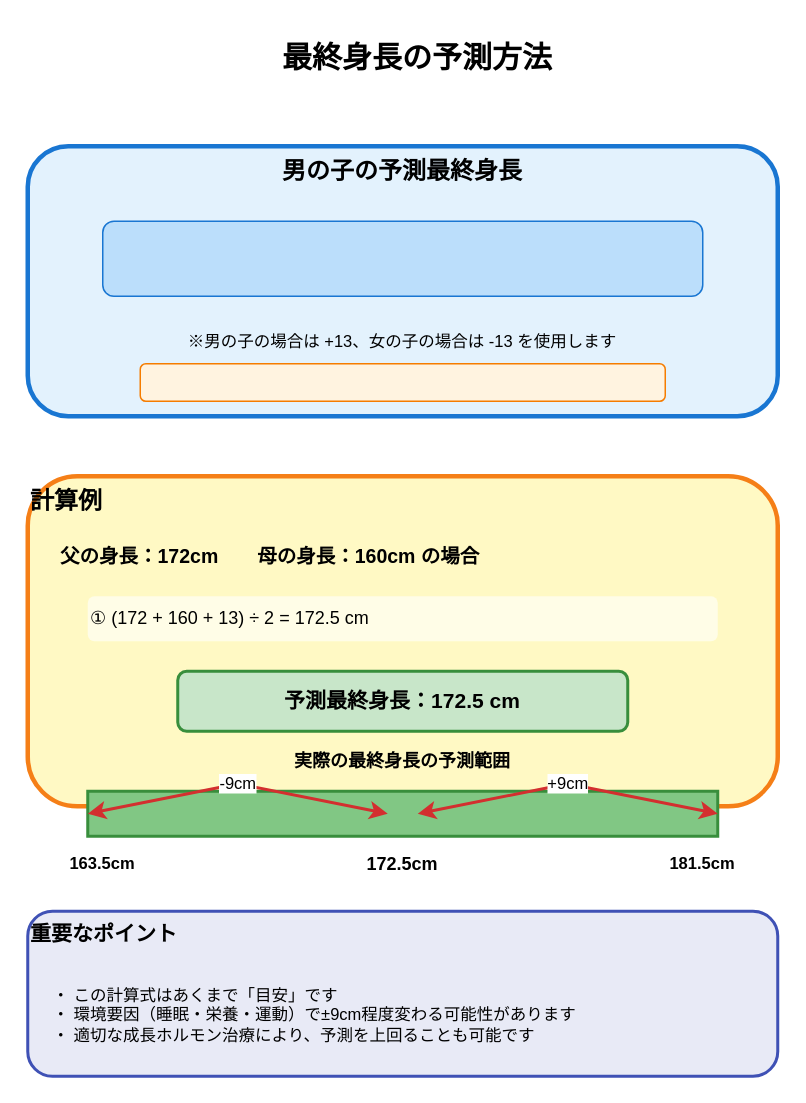
This 806x1103 diagram has some shape labels left out. Here are the shapes that lost their labels. From the top down, the box of each, then its label:
(101, 220, 703, 296): (父の身長 + 母の身長 + 13) ÷ 2
(139, 362, 665, 401): ± 9 cm の誤差範囲があります
